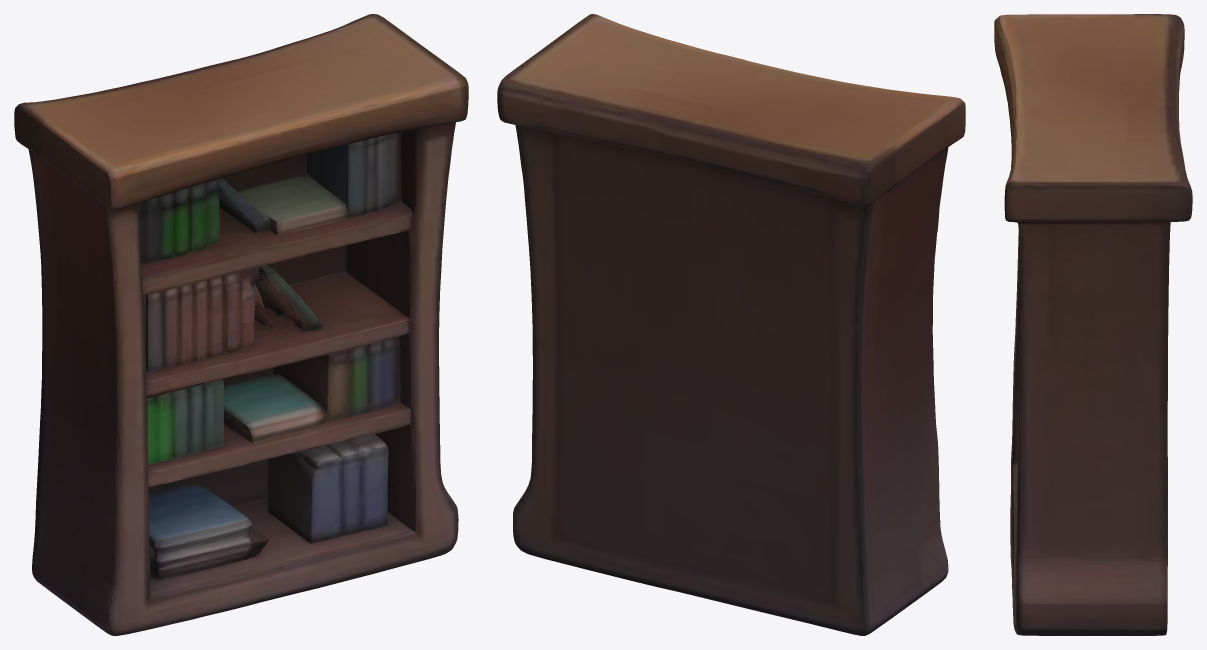
File: bookcase2.glb
3 renders of one model, left to right at view 1: azimuth 30°, elevation 25°; view 2: azimuth 150°, elevation 25°; view 3: azimuth 270°, elevation 25°, orthographic. The views are drawn at different scales.
Parts seen in each view (by area): view 1: world.001; view 2: world.001; view 3: world.001.
Boxes of the visible parts, x1,y1,x2,y2 form: world.001: [14, 14, 468, 635]; world.001: [497, 14, 965, 635]; world.001: [994, 14, 1192, 635].
Bounding box in the file's own units: 0.8032 × 1 × 0.3914.
Materials: 1 (1 with a texture image).
